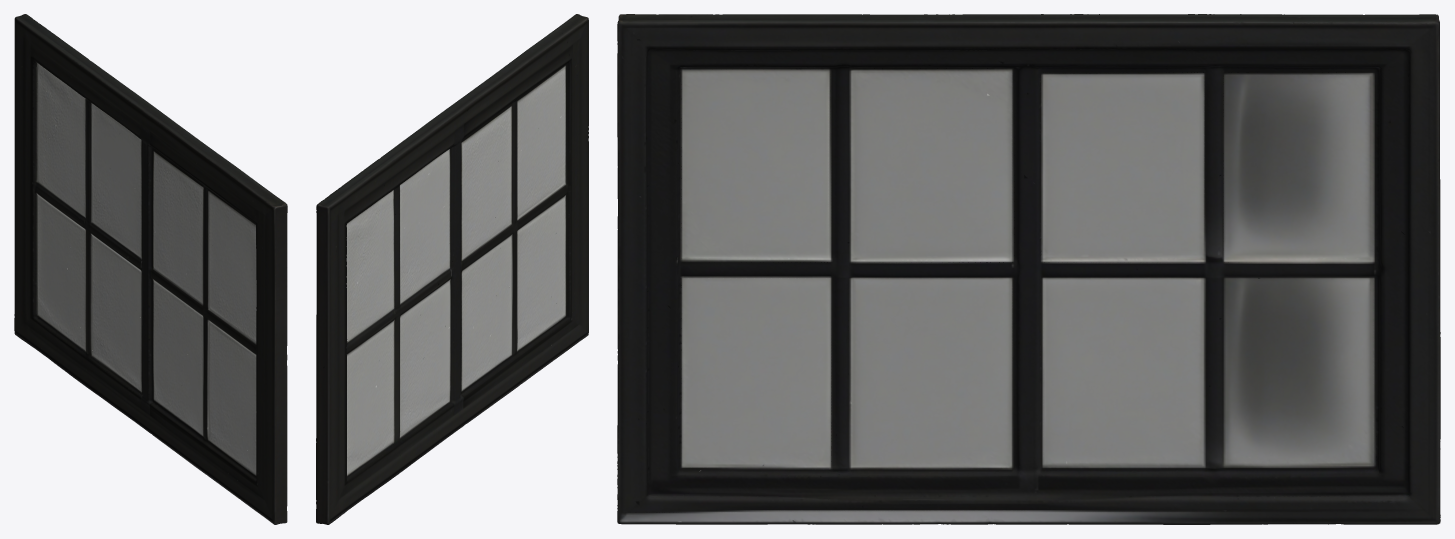
File: Black_Framed_Double_Window.glb
3 views of the same model, side by side, from view 1: azimuth 30°, elevation 25°; view 2: azimuth 150°, elevation 25°; view 3: azimuth 270°, elevation 25° (orthographic). The views are drawn at different scales.
Size of the model in its own units: 0.0619 by 1.35 by 2.
1 material, 1 textured.
